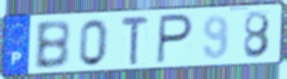0: (77, 17, 110, 69)
8: (241, 10, 271, 60)
9: (201, 13, 232, 60)
B: (33, 18, 73, 71)
P: (154, 12, 195, 65)
T: (120, 16, 151, 67)
